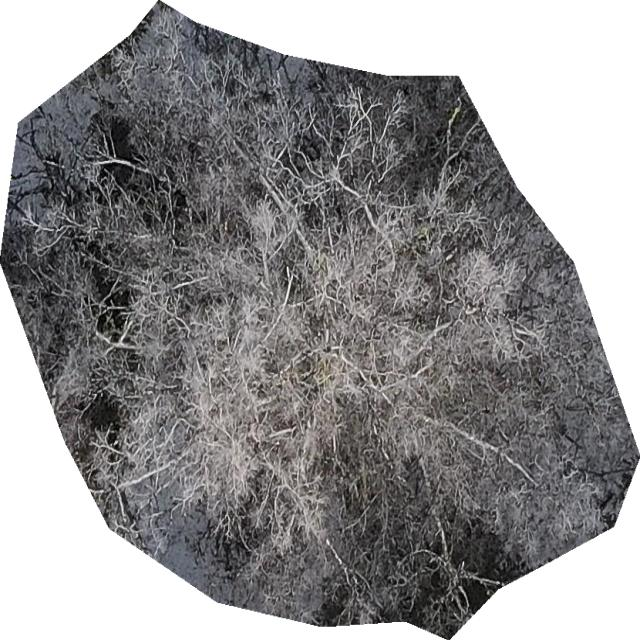trembling aspen: (0, 3, 639, 639)
